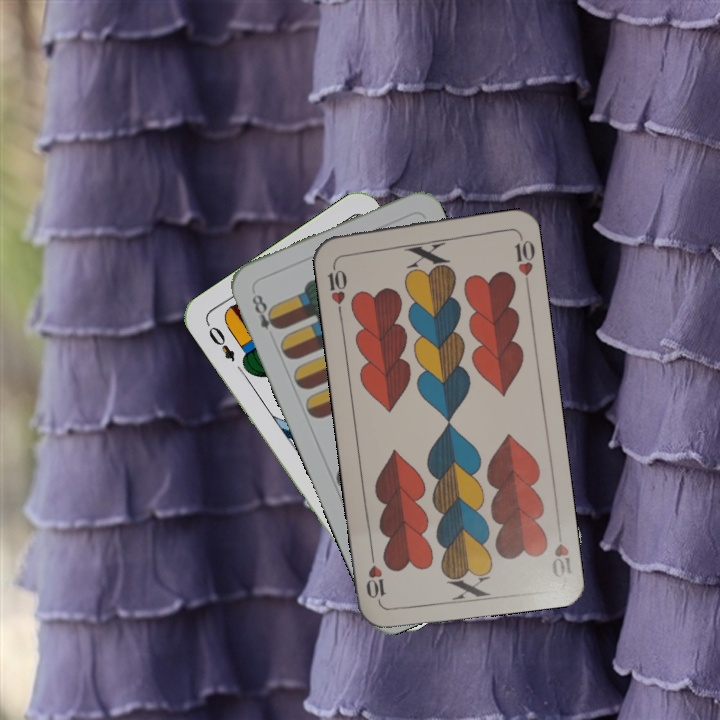E8: (247, 286, 283, 333)
EO: (204, 322, 238, 364)
H10: (323, 257, 350, 316), (547, 538, 574, 580)
